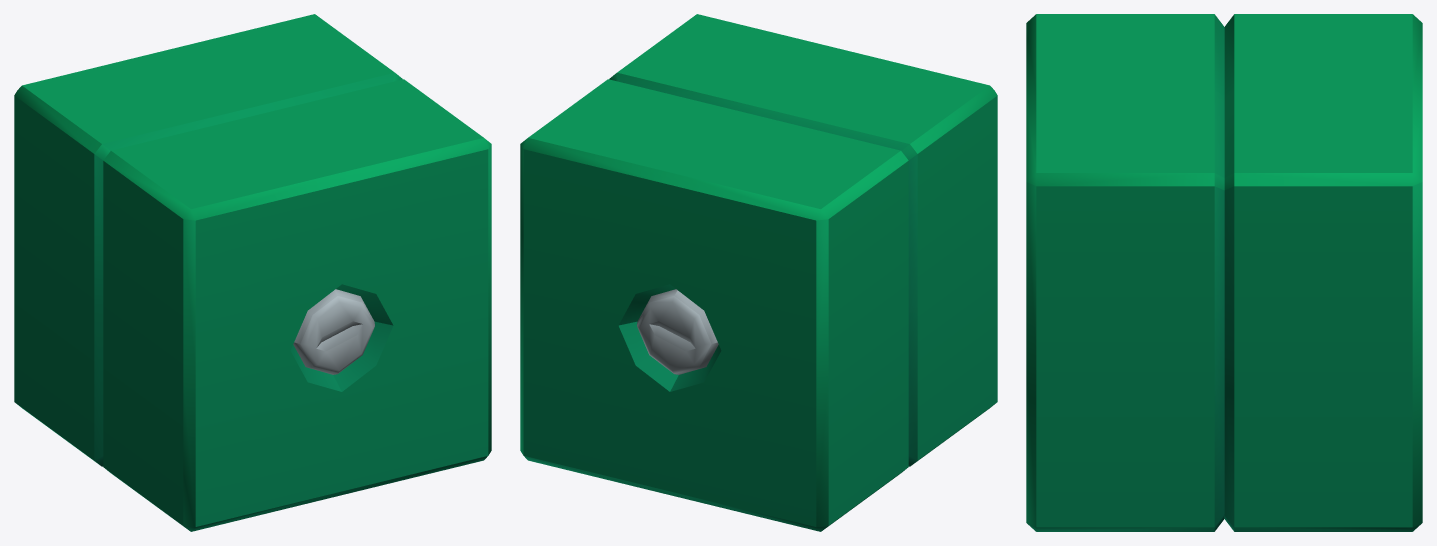
Rendered from platform_decorative_2x2x2_green.glb.
The picture shows the model from 3 angles, left to right: view 1: azimuth 30°, elevation 25°; view 2: azimuth 150°, elevation 25°; view 3: azimuth 270°, elevation 25°; orthographic projection. The views are drawn at different scales.
Parts seen in each view (by area): view 1: platform_decorative_2x2x2_green; view 2: platform_decorative_2x2x2_green; view 3: platform_decorative_2x2x2_green.
Boxes of the visible parts, left/top/right/bottom form: platform_decorative_2x2x2_green: left=14, top=14, right=491, bottom=531; platform_decorative_2x2x2_green: left=520, top=14, right=997, bottom=531; platform_decorative_2x2x2_green: left=1026, top=14, right=1422, bottom=531.
Size of the model in its own units: 2 by 2 by 2.
Materials: 1 (1 with a texture image).
